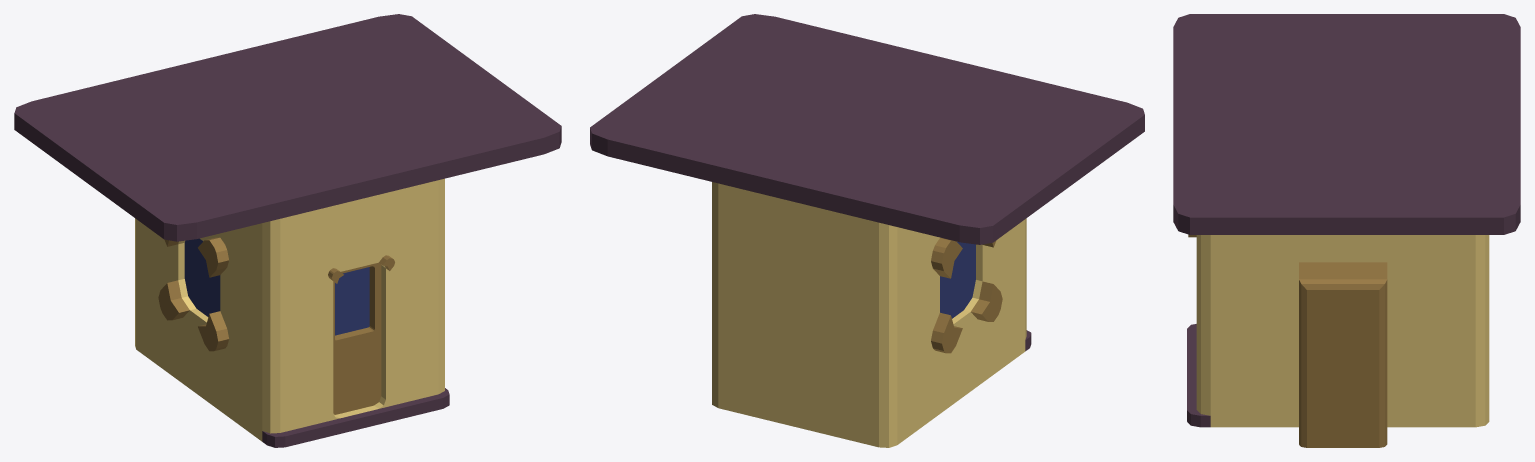
File: Building2.fbx
3 renders of one model, left to right at view 1: azimuth 30°, elevation 25°; view 2: azimuth 150°, elevation 25°; view 3: azimuth 270°, elevation 25°, orthographic. The views are drawn at different scales.
Visible parts, largest first — view 1: Building2; view 2: Building2; view 3: Building2.
Part boxes in pixels (x1,y1,x2,y2): Building2: (14,14,561,447); Building2: (590,14,1144,447); Building2: (1173,14,1520,447).
Bounding box in the file's own units: 6.58 × 4 × 4.74.
